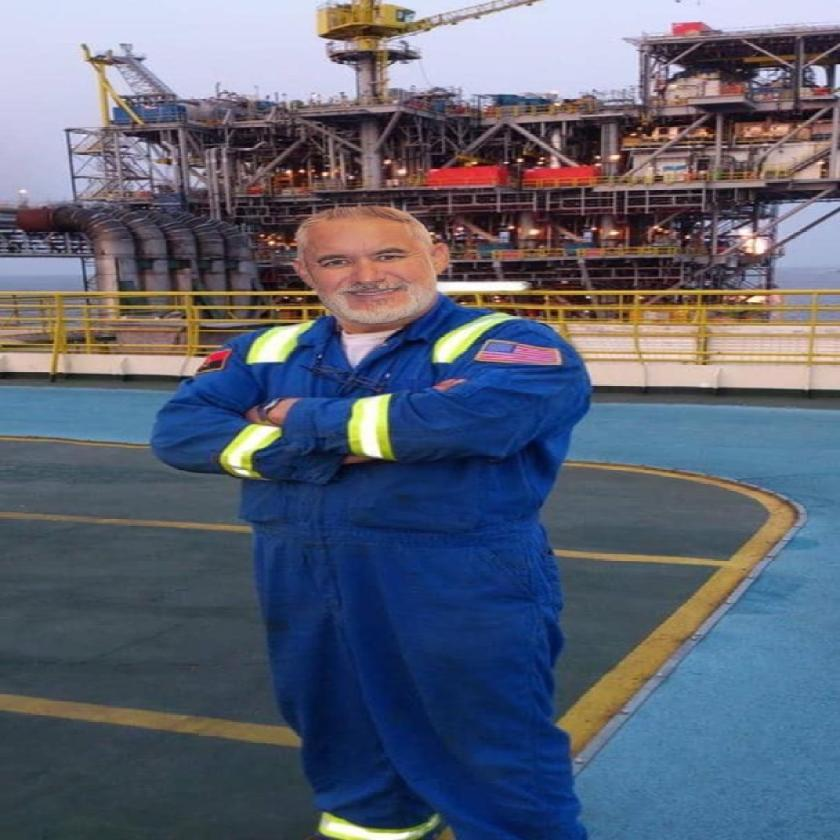Sin_casco: (249, 189, 481, 328)
